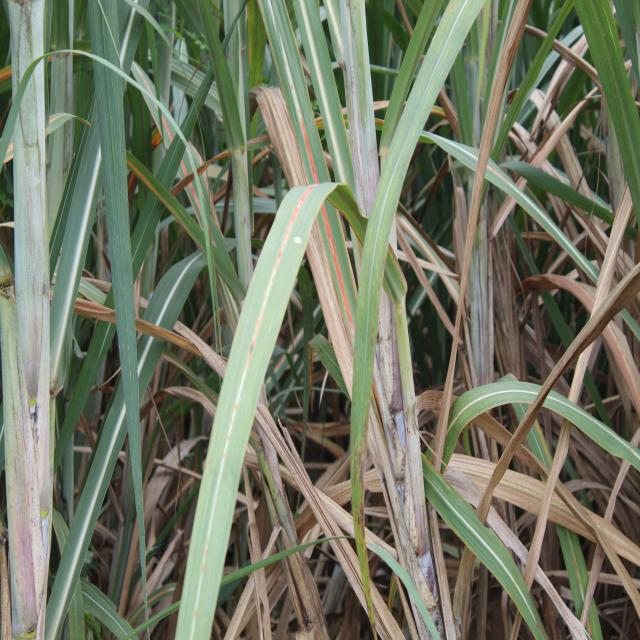Sugarcane: (258, 3, 412, 615), (359, 3, 503, 515), (179, 184, 322, 626), (92, 0, 148, 608), (42, 372, 132, 614), (570, 1, 639, 280), (421, 496, 555, 637), (125, 150, 242, 310), (48, 97, 106, 403), (490, 2, 582, 166), (259, 1, 323, 205), (382, 1, 462, 150), (306, 1, 364, 204), (53, 309, 115, 493), (437, 376, 542, 477), (188, 2, 246, 164), (538, 394, 640, 480), (496, 160, 616, 228), (367, 537, 447, 639), (0, 52, 47, 201), (125, 5, 156, 212), (109, 492, 138, 621), (554, 524, 590, 622), (77, 578, 134, 639), (120, 595, 182, 637)
